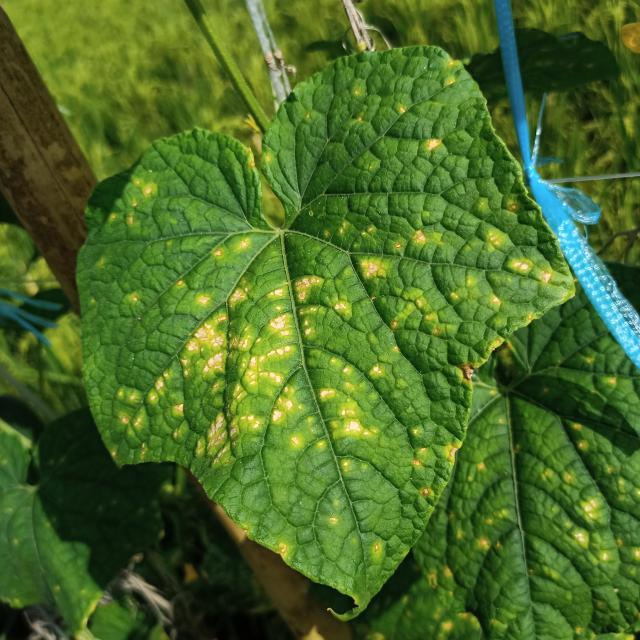disease_cucumber: (83, 105, 551, 545)
